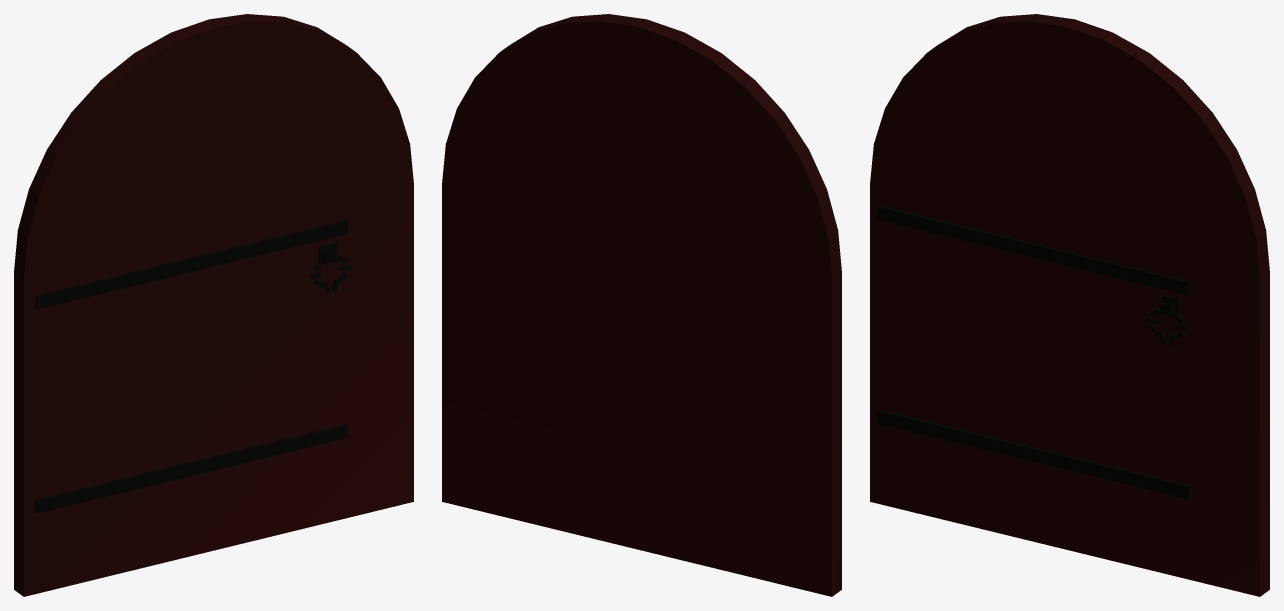
Rendered from SilverbrookGranary_Door1.fbx.
3 renders of one model, left to right at view 1: azimuth 30°, elevation 25°; view 2: azimuth 150°, elevation 25°; view 3: azimuth 330°, elevation 25°, orthographic.
Parts seen in each view (by area): view 1: SM_SBGranary_Details_Door1_Part; view 2: SM_SBGranary_Details_Door1_Part; view 3: SM_SBGranary_Details_Door1_Part.
Part boxes in pixels (left/top/right/bottom): SM_SBGranary_Details_Door1_Part: left=14, top=14, right=413, bottom=596; SM_SBGranary_Details_Door1_Part: left=442, top=14, right=841, bottom=596; SM_SBGranary_Details_Door1_Part: left=870, top=14, right=1269, bottom=596.
Bounding box in the file's own units: 160 × 205 × 11.2.
